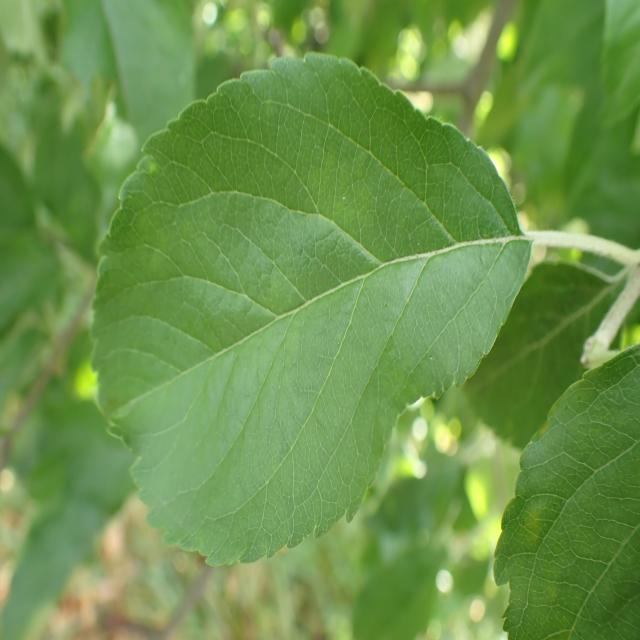healthy: (90, 51, 533, 568), (492, 344, 640, 640), (461, 259, 617, 451)
